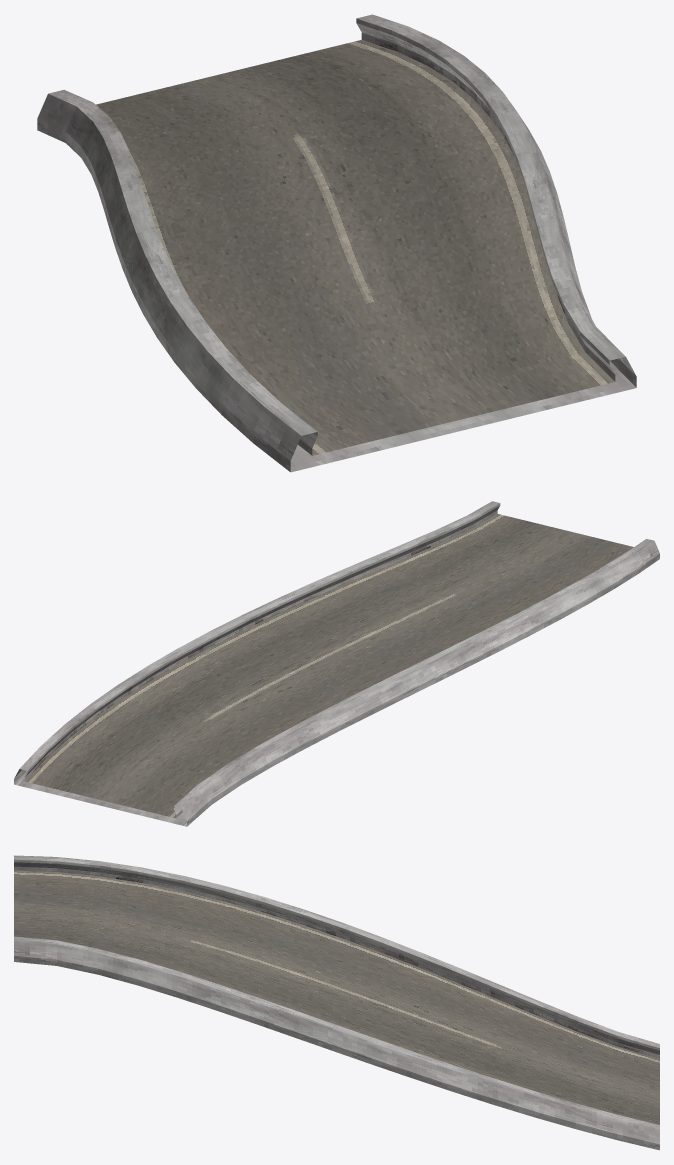
Rendered from chicane-right1x3.glb.
The picture shows the model from 3 angles, top to bottom: view 1: azimuth 30°, elevation 25°; view 2: azimuth 150°, elevation 25°; view 3: azimuth 270°, elevation 25°; orthographic projection. The views are drawn at different scales.
Visible parts, largest first — view 1: road-Chicane-Flat-BiSlopeDown-Down2-Right1-Size3; view 2: road-Chicane-Flat-BiSlopeDown-Down2-Right1-Size3; view 3: road-Chicane-Flat-BiSlopeDown-Down2-Right1-Size3.
Boxes of the visible parts, bbox=[...] form: road-Chicane-Flat-BiSlopeDown-Down2-Right1-Size3: bbox=[37, 14, 636, 472]; road-Chicane-Flat-BiSlopeDown-Down2-Right1-Size3: bbox=[14, 501, 659, 826]; road-Chicane-Flat-BiSlopeDown-Down2-Right1-Size3: bbox=[14, 855, 659, 1150].
Bounding box in the file's own units: 2 × 0.5938 × 3.
Materials: 2 (2 with a texture image).
